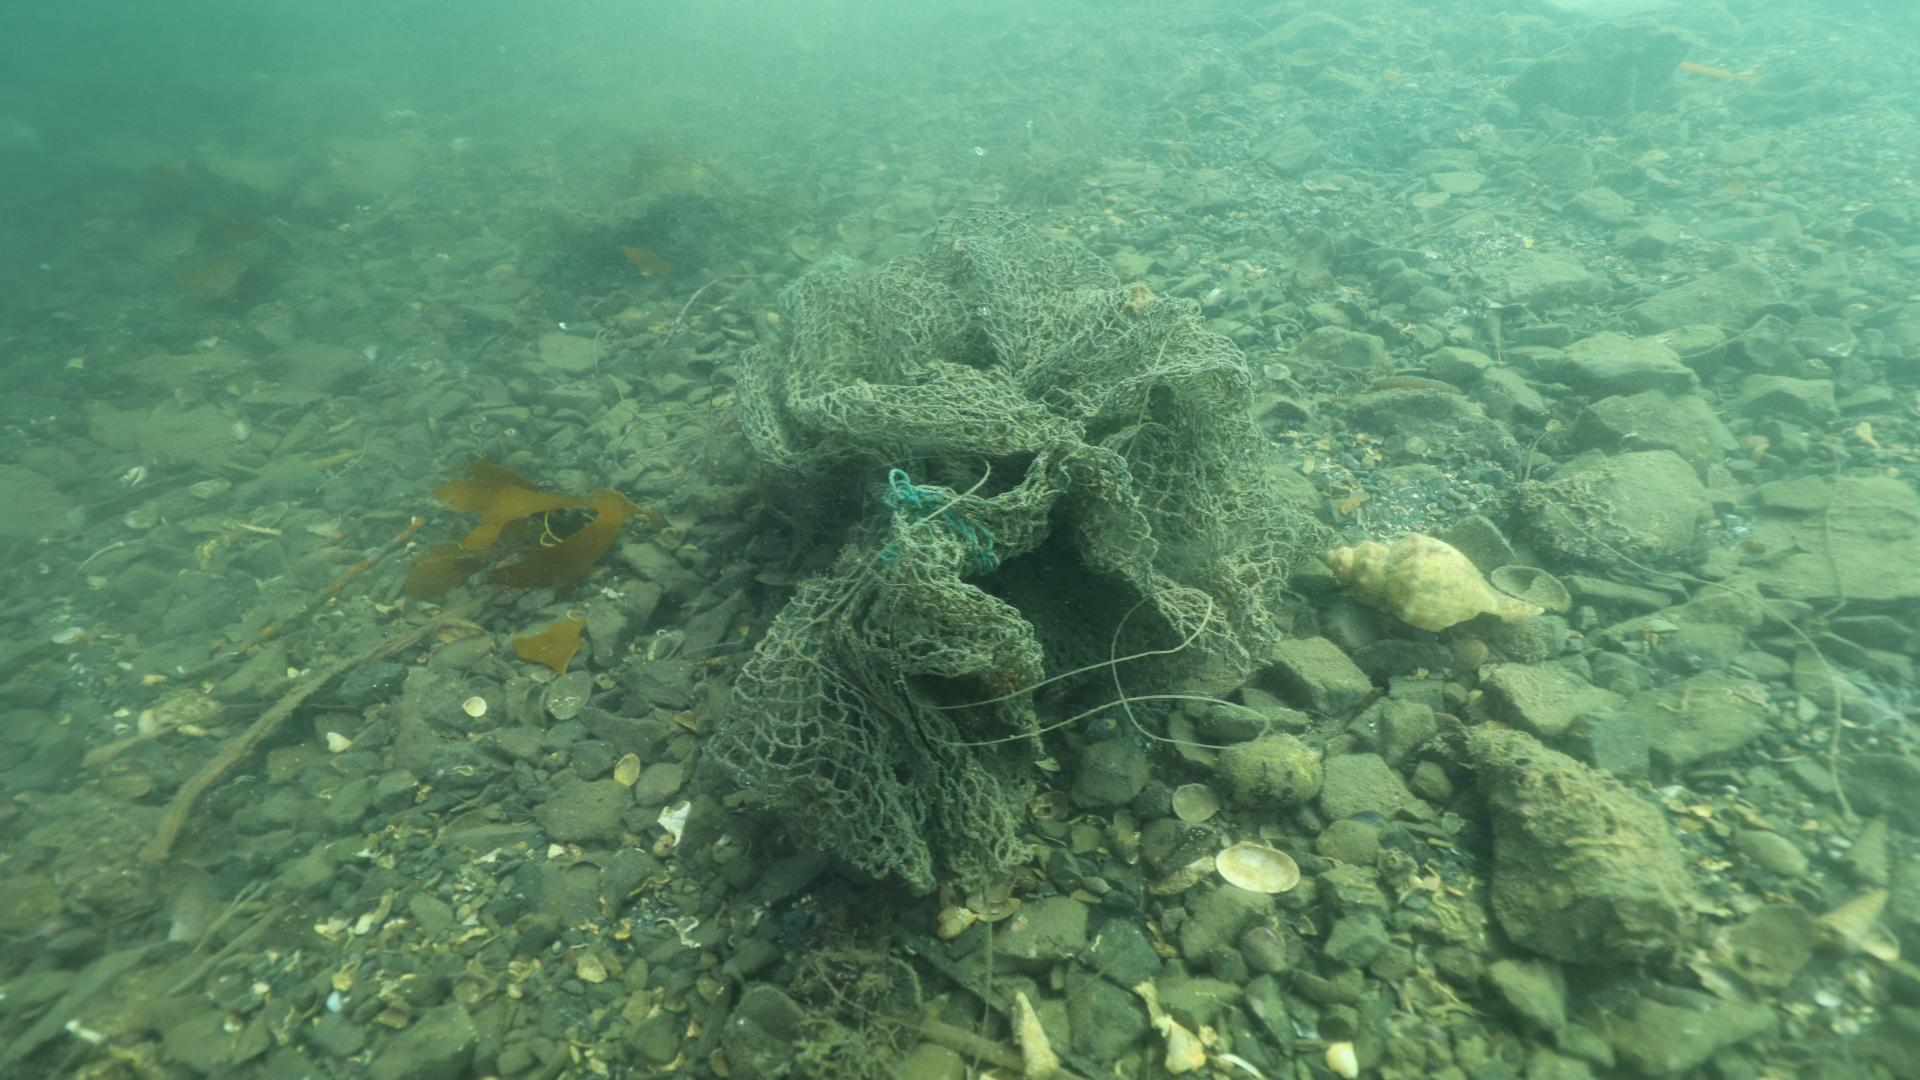fish net: (705, 220, 1335, 884)
